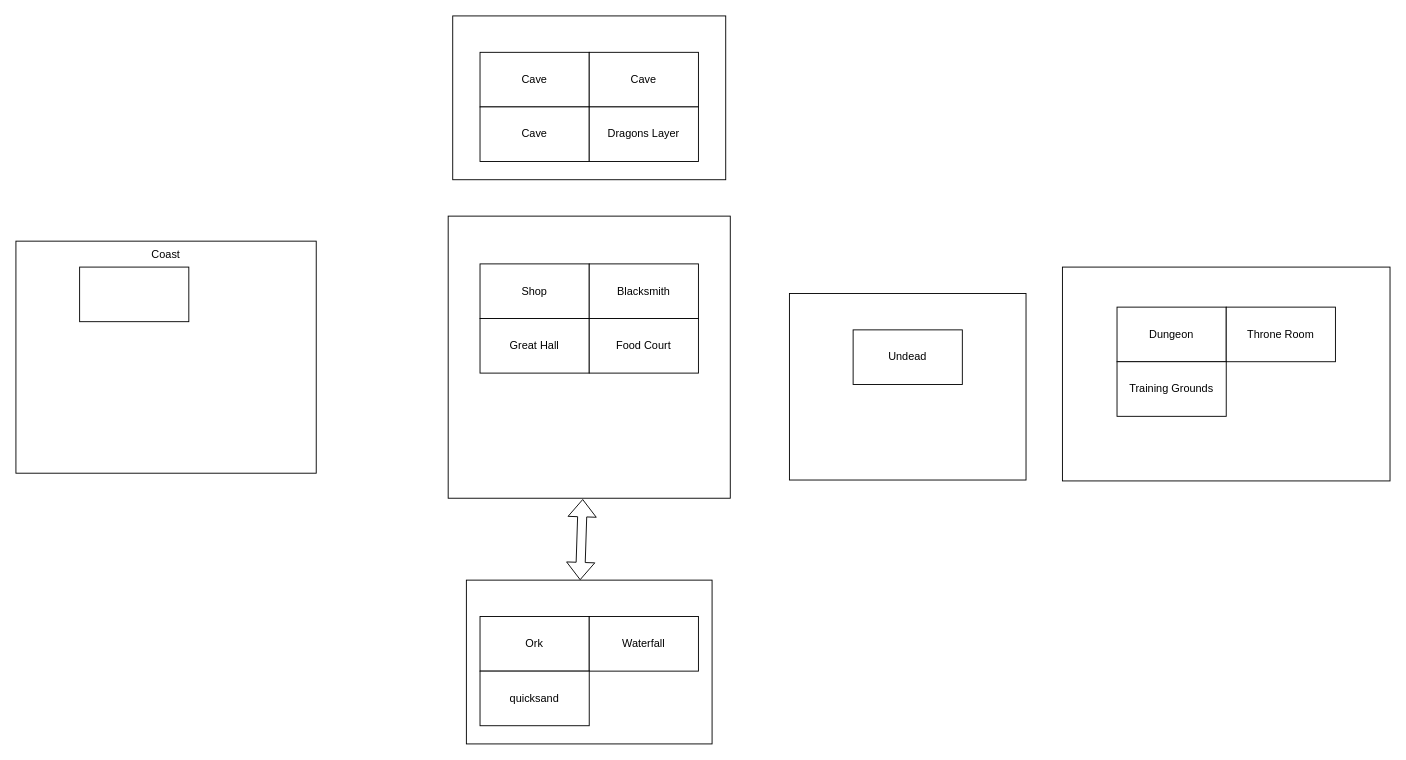
Some shapes in this 1406 by 760 pixel diagram are drawn without their labels. The shapes that lost their labels are listed below. From the top down, each one's box as (x1, y1, x2, y2) in pixels, then its label:
(452, 15, 726, 180): Mountain
(79, 266, 189, 322): Goblins
(447, 215, 730, 498): Town
(1062, 266, 1390, 481): Castle
(789, 293, 1026, 480): Desert
(465, 579, 712, 744): Jungle
